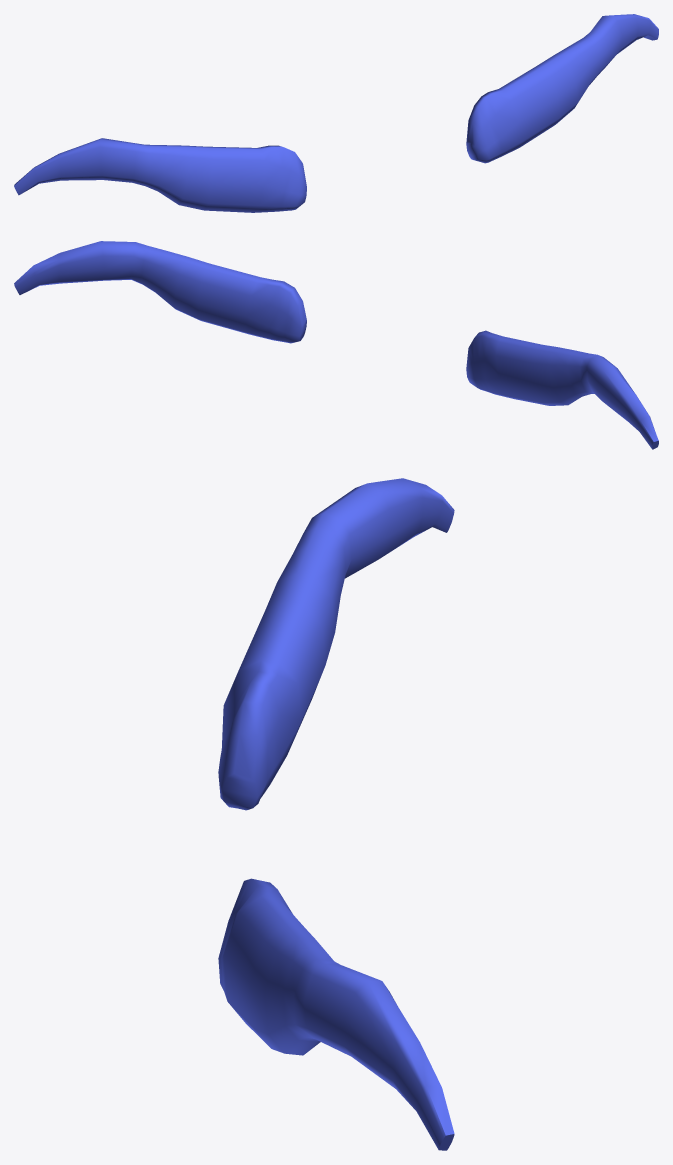
File: Eyebrows_07_03.fbx
The picture shows the model from 3 angles, top to bottom: view 1: azimuth 30°, elevation 25°; view 2: azimuth 150°, elevation 25°; view 3: azimuth 270°, elevation 25°; orthographic projection. The views are drawn at different scales.
Parts seen in each view (by area): view 1: Eyebrows_07_03; view 2: Eyebrows_07_03; view 3: Eyebrows_07_03.
Part boxes in pixels (bbox=[...]): Eyebrows_07_03: bbox=[14, 14, 658, 212]; Eyebrows_07_03: bbox=[14, 241, 658, 449]; Eyebrows_07_03: bbox=[218, 478, 454, 1150].
Size of the model in its own units: 19.46 by 2.46 by 3.09.
